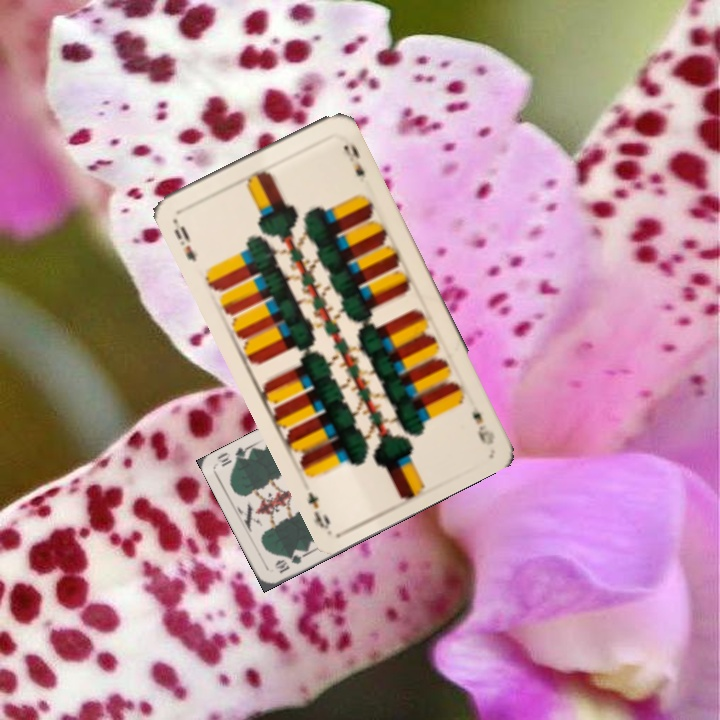E9: (170, 222, 199, 264), (467, 408, 497, 448)
G10: (270, 550, 308, 576)
